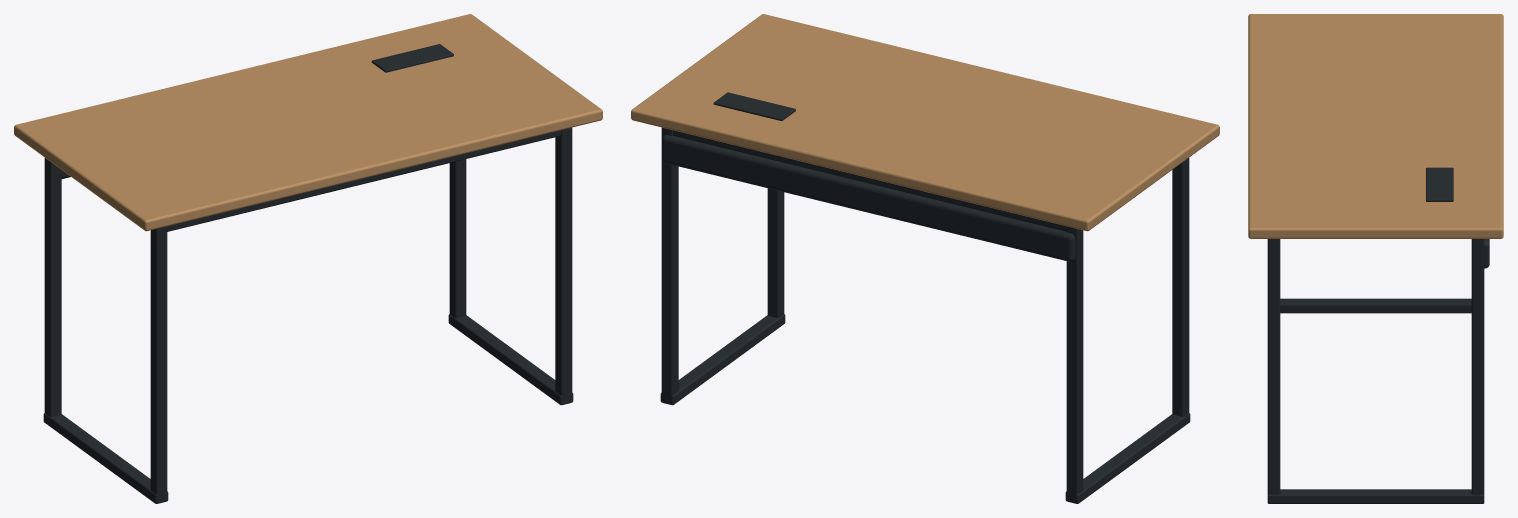
The model's file is workDesk-1.glb.
3 renders of one model, left to right at view 1: azimuth 30°, elevation 25°; view 2: azimuth 150°, elevation 25°; view 3: azimuth 270°, elevation 25°, orthographic. The views are drawn at different scales.
Parts seen in each view (by area): view 1: workDesk:1:archviz; view 2: workDesk:1:archviz; view 3: workDesk:1:archviz.
Part boxes in pixels (left/top/right/bottom): workDesk:1:archviz: left=14, top=14, right=602, bottom=503; workDesk:1:archviz: left=631, top=14, right=1219, bottom=503; workDesk:1:archviz: left=1248, top=14, right=1503, bottom=503.
Bounding box in the file's own units: 1.2 × 0.7455 × 0.6.
